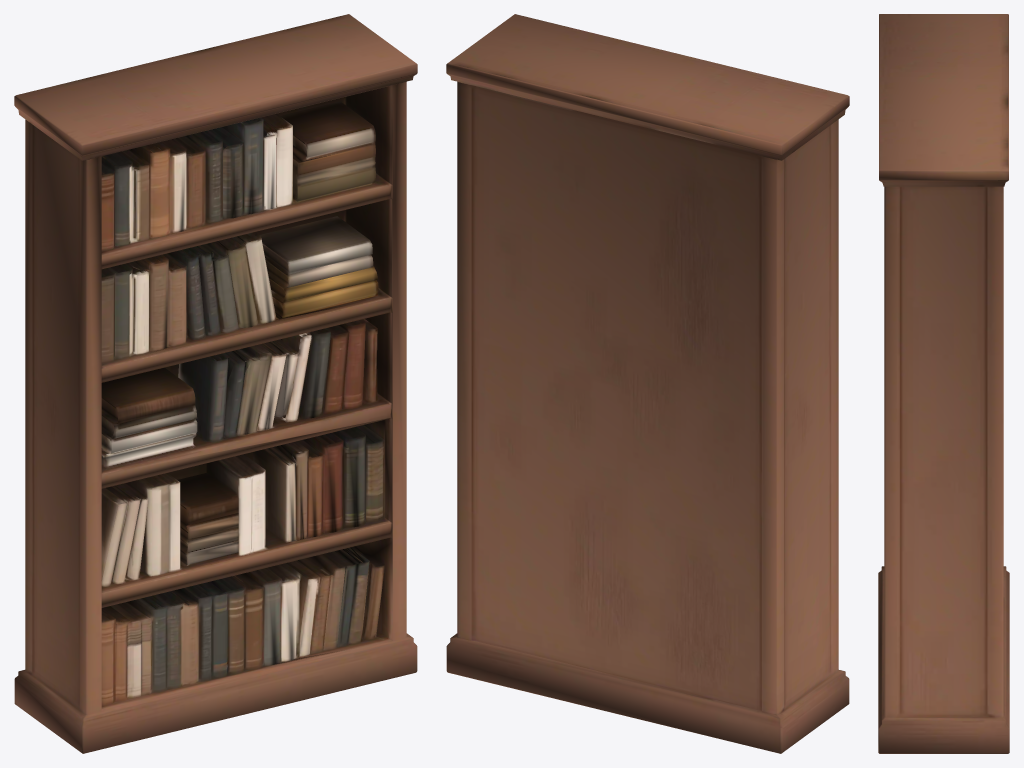
File: bookshelf_realistic_style_3d6a7c59_v1.glb
3 renders of one model, left to right at view 1: azimuth 30°, elevation 25°; view 2: azimuth 150°, elevation 25°; view 3: azimuth 270°, elevation 25°, orthographic. The views are drawn at different scales.
Visible parts, largest first — view 1: texture_pbr_20250901; view 2: texture_pbr_20250901; view 3: texture_pbr_20250901.
Boxes of the visible parts, left/top/right/bottom form: texture_pbr_20250901: left=14, top=14, right=417, bottom=753; texture_pbr_20250901: left=446, top=14, right=849, bottom=753; texture_pbr_20250901: left=878, top=14, right=1009, bottom=753.
Bounding box in the file's own units: 1.09 × 1.9 × 0.3867.
1 material, 1 textured.
